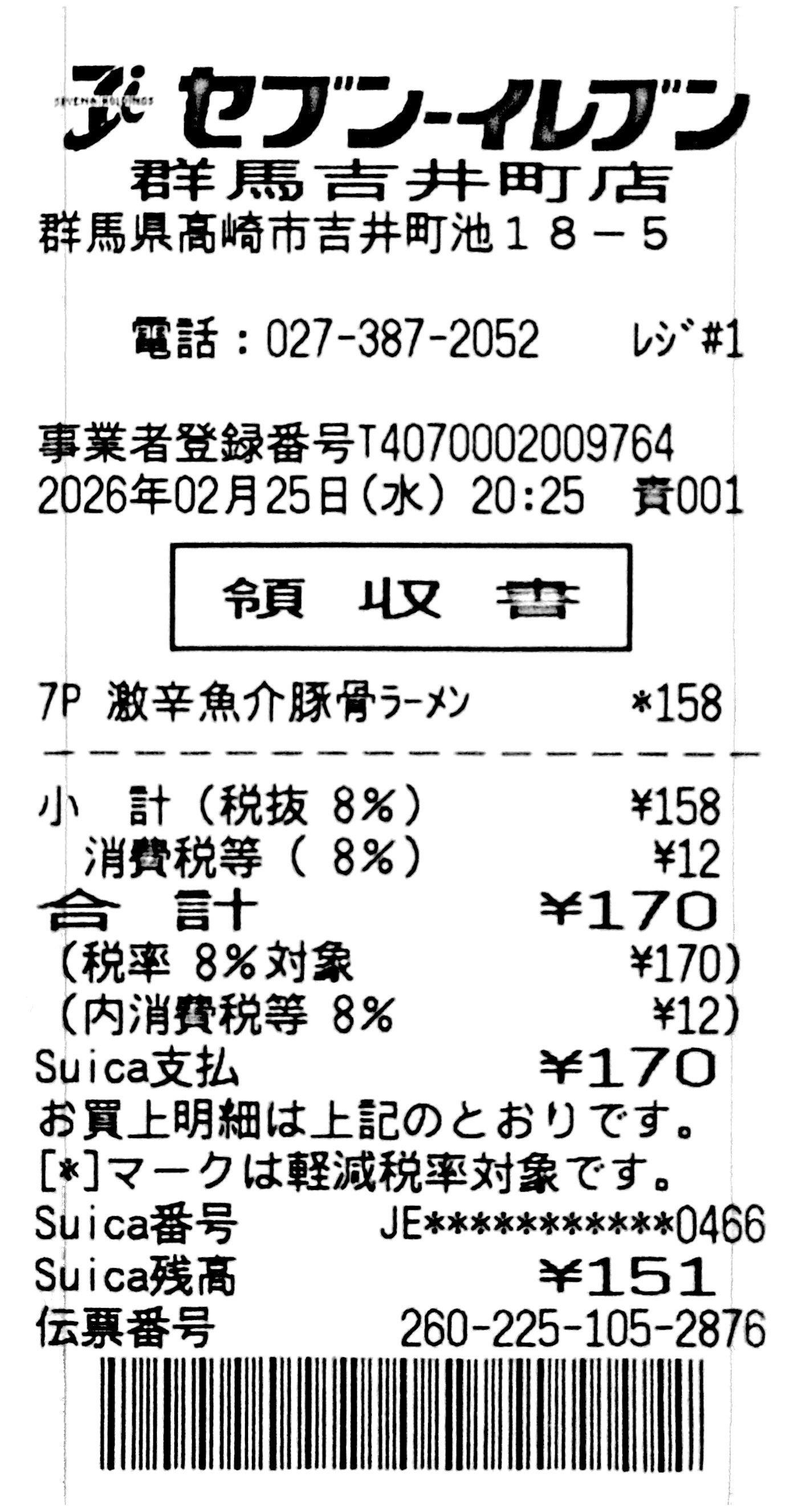Date: (38, 474, 348, 518)
Pay: (36, 887, 719, 934)
Shopname: (178, 66, 751, 150)
Telnum: (266, 316, 540, 360)
